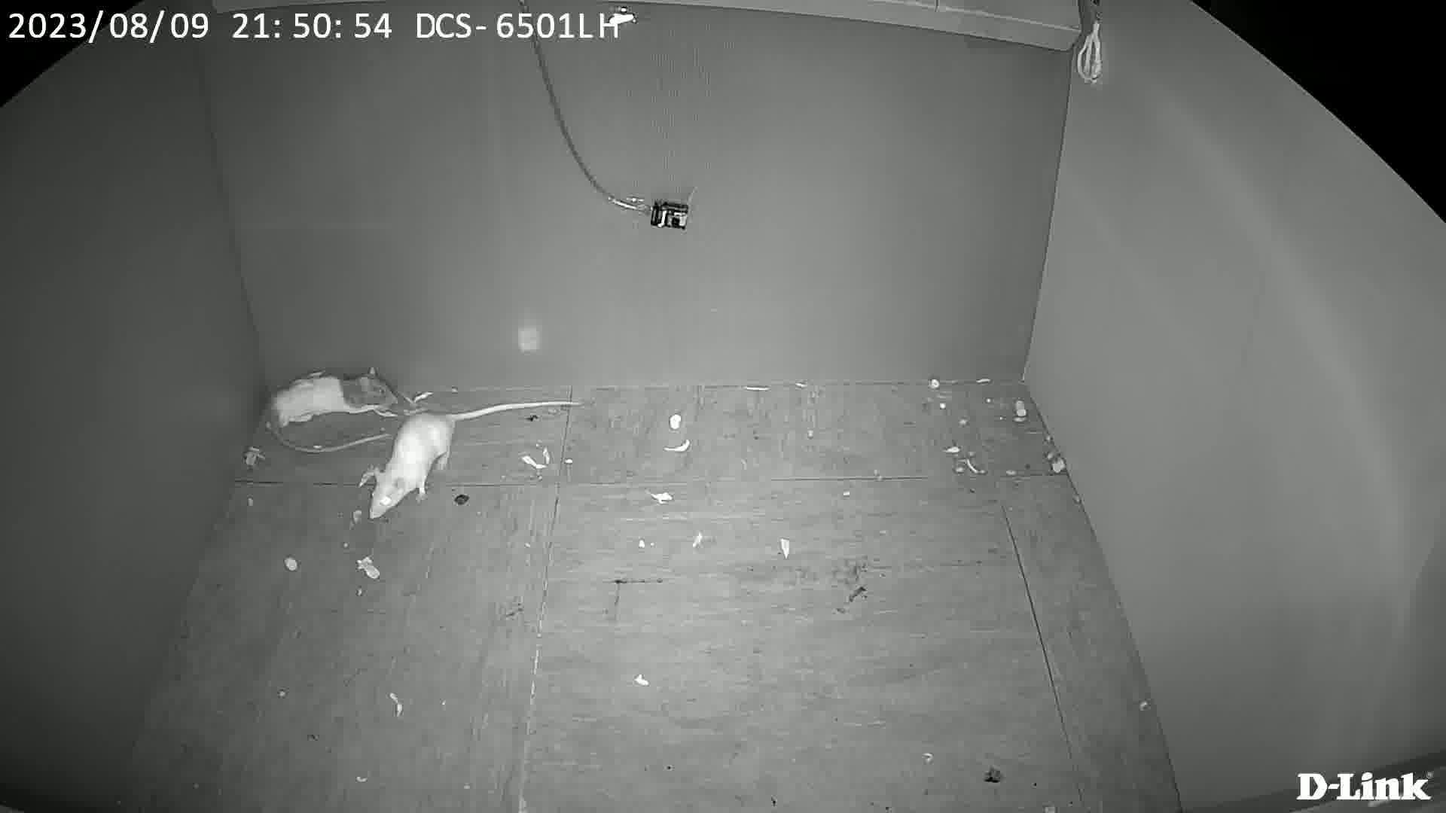rat: (356, 410, 474, 522), (244, 364, 404, 419)
